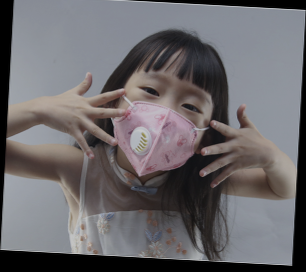with_mask: (112, 69, 212, 178)
